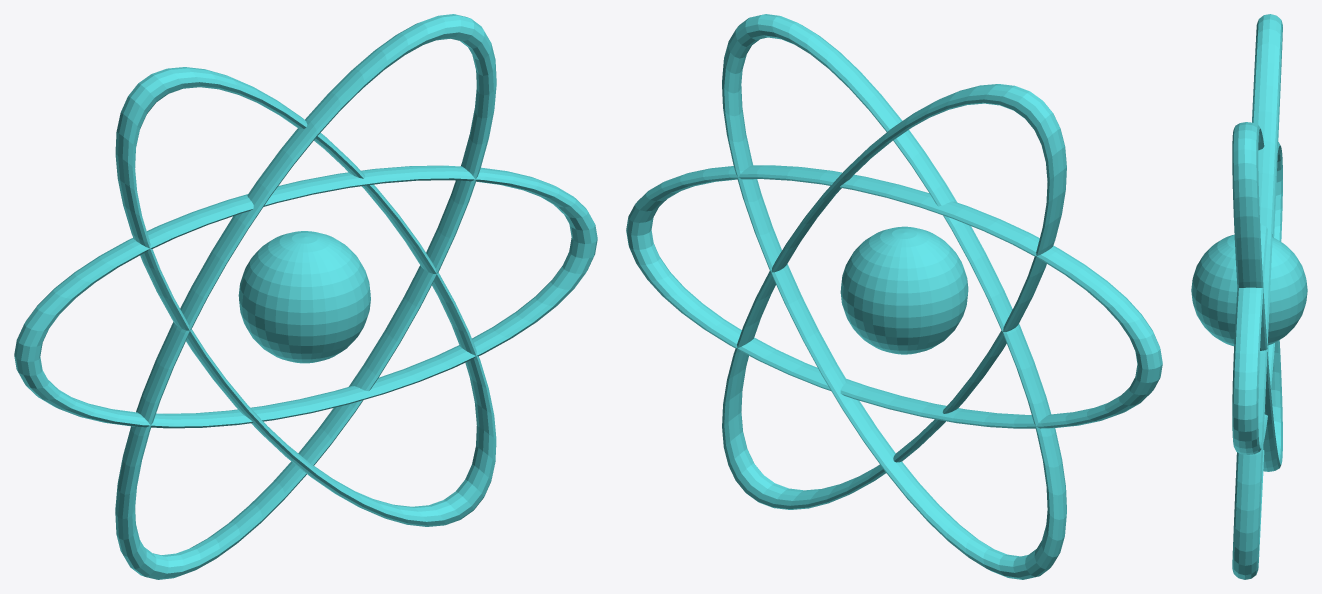
The model's file is reactmodel.glb.
3 views of the same model, side by side, from view 1: azimuth 30°, elevation 25°; view 2: azimuth 150°, elevation 25°; view 3: azimuth 270°, elevation 25° (orthographic). The views are drawn at different scales.
Visible parts, largest first — view 1: Torus.002, Torus.003, Torus.001, Sphere; view 2: Torus.002, Torus.003, Torus.001, Sphere; view 3: Torus.001, Sphere, Torus.002, Torus.003.
Part boxes in pixels (x1,y1,x2,y2): Torus.002: [115, 14, 496, 579]; Torus.003: [14, 165, 597, 428]; Torus.001: [115, 67, 496, 526]; Sphere: [238, 231, 370, 363]; Torus.002: [722, 14, 1066, 579]; Torus.003: [626, 165, 1162, 428]; Torus.001: [722, 84, 1066, 509]; Sphere: [840, 226, 968, 354]; Torus.001: [1232, 14, 1282, 579]; Sphere: [1191, 234, 1307, 346]; Torus.002: [1232, 122, 1282, 471]; Torus.003: [1232, 142, 1282, 454].
Size of the model in its own units: 102 by 87.79 by 20.81.
